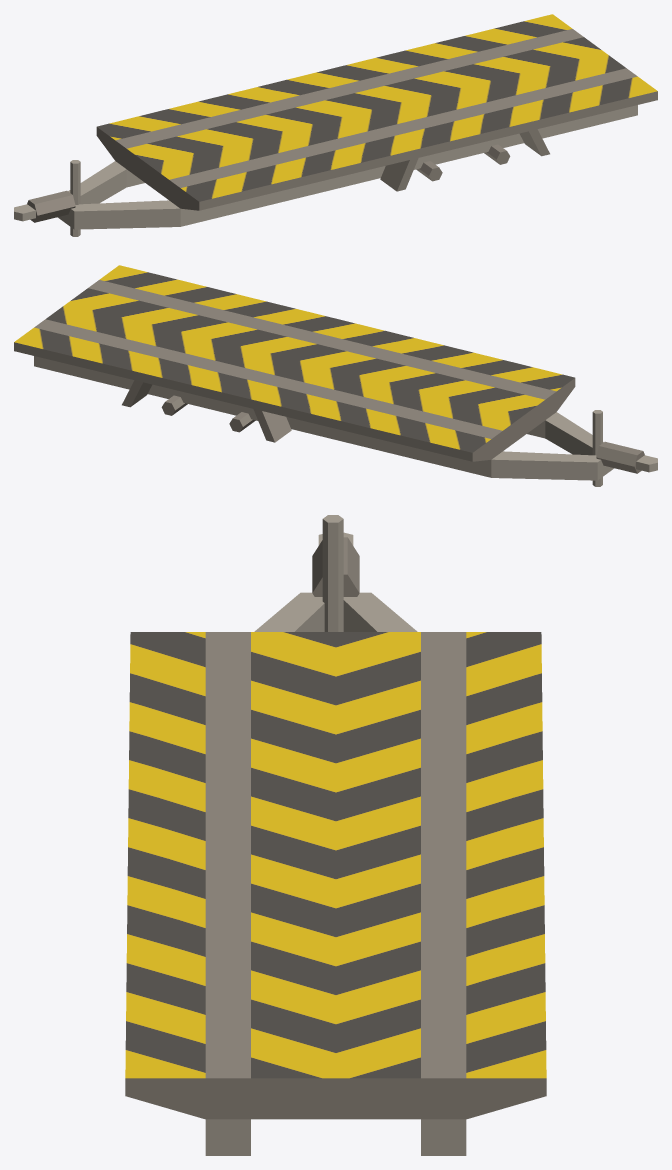
File: LightGreyMetalMechMediumLowLoader1.fbx
The picture shows the model from 3 angles, top to bottom: view 1: azimuth 30°, elevation 25°; view 2: azimuth 150°, elevation 25°; view 3: azimuth 270°, elevation 25°; orthographic projection. The views are drawn at different scales.
Parts seen in each view (by area): view 1: LightGreyMetalMechMediumLowLoader1, Connector; view 2: LightGreyMetalMechMediumLowLoader1, Connector; view 3: LightGreyMetalMechMediumLowLoader1, Connector.
Part boxes in pixels (x1,y1,x2,y2): LightGreyMetalMechMediumLowLoader1: [58, 14, 657, 229]; Connector: [14, 160, 80, 236]; LightGreyMetalMechMediumLowLoader1: [14, 265, 613, 480]; Connector: [592, 410, 657, 486]; LightGreyMetalMechMediumLowLoader1: [125, 592, 546, 1155]; Connector: [312, 515, 359, 631].
Bounding box in the file's own units: 1285 × 152 × 396.
